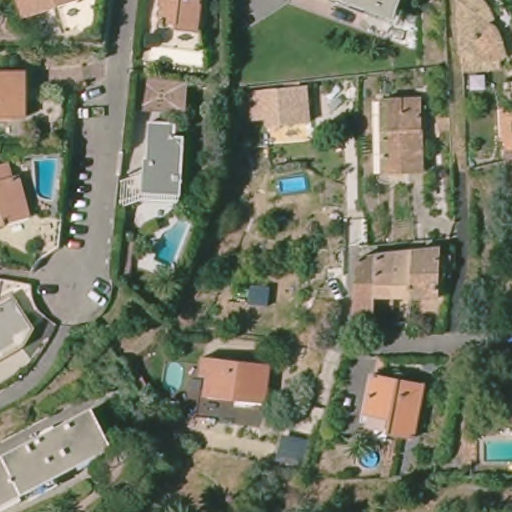pool: (155, 216, 192, 268), (32, 154, 59, 204), (478, 433, 512, 464), (158, 361, 186, 398), (274, 173, 311, 197), (357, 445, 382, 471)
